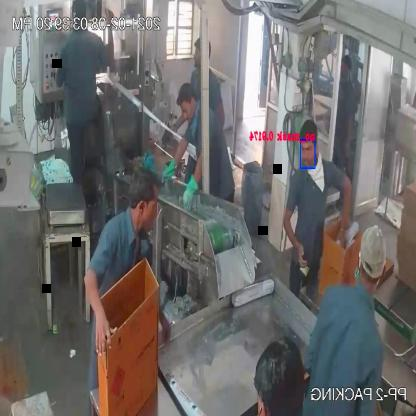no_glove: (81, 256, 116, 360), (277, 195, 313, 280), (331, 167, 358, 252)
